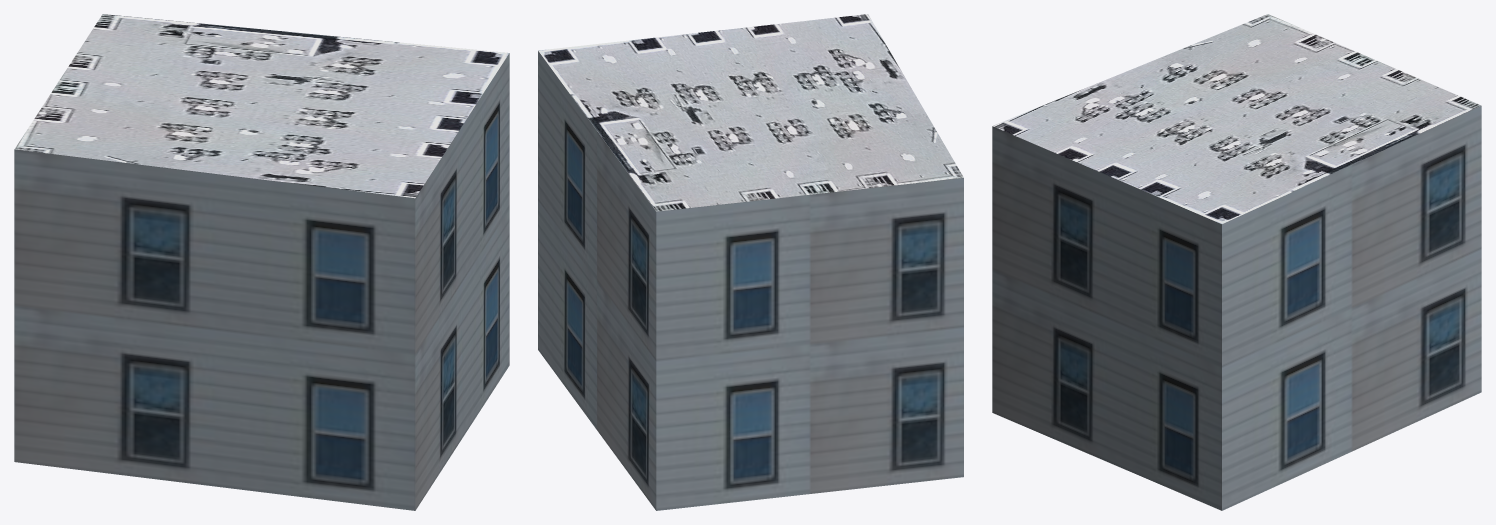
The model's file is ResTex__4935.fbx.
3 views of the same model, side by side, from view 1: azimuth 30°, elevation 25°; view 2: azimuth 150°, elevation 25°; view 3: azimuth 270°, elevation 25° (orthographic). The views are drawn at different scales.
Visible parts, largest first — view 1: CityEngineMaterial_18_m, CityEngineMaterial_4_m; view 2: CityEngineMaterial_18_m, CityEngineMaterial_4_m; view 3: CityEngineMaterial_18_m, CityEngineMaterial_4_m.
Part boxes in pixels (box(x1,y1,x2,y2)): CityEngineMaterial_18_m: box(14, 53, 509, 510); CityEngineMaterial_4_m: box(15, 14, 509, 198); CityEngineMaterial_18_m: box(538, 51, 963, 510); CityEngineMaterial_4_m: box(538, 14, 963, 211); CityEngineMaterial_18_m: box(992, 106, 1481, 510); CityEngineMaterial_4_m: box(992, 14, 1481, 223).
Size of the model in its own units: 9.44 by 6 by 9.29.
Materials: 2 (2 with a texture image).
